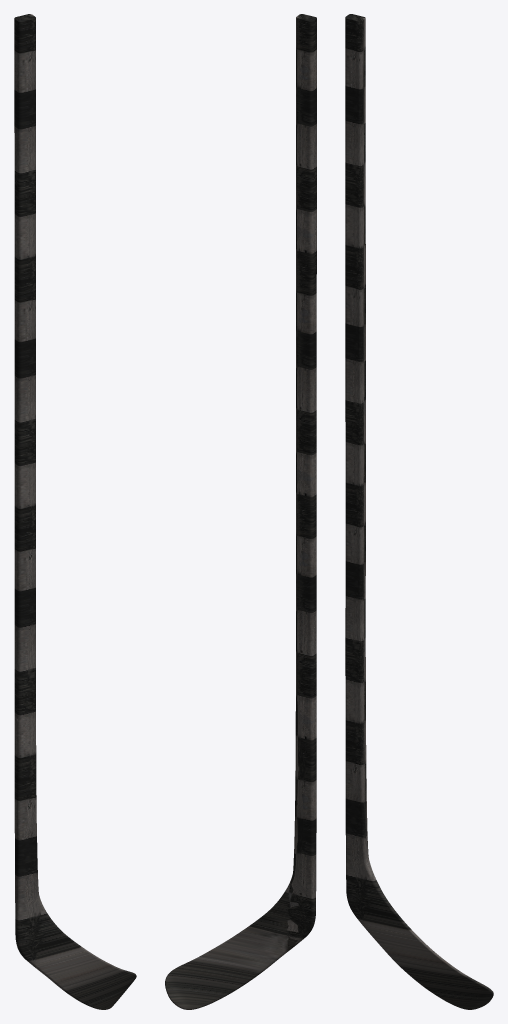
3 renders of one model, left to right at view 1: azimuth 30°, elevation 25°; view 2: azimuth 150°, elevation 25°; view 3: azimuth 330°, elevation 25°, orthographic. The views are drawn at different scales.
Parts seen in each view (by area): view 1: geometry_0; view 2: geometry_0; view 3: geometry_0.
Boxes of the visible parts, x1,y1,x2,y2 form: geometry_0: (14, 14, 136, 1009); geometry_0: (165, 14, 316, 1009); geometry_0: (345, 14, 493, 1009).
Size of the model in its own units: 229 by 1650 by 71.36.
1 material, 1 textured.
